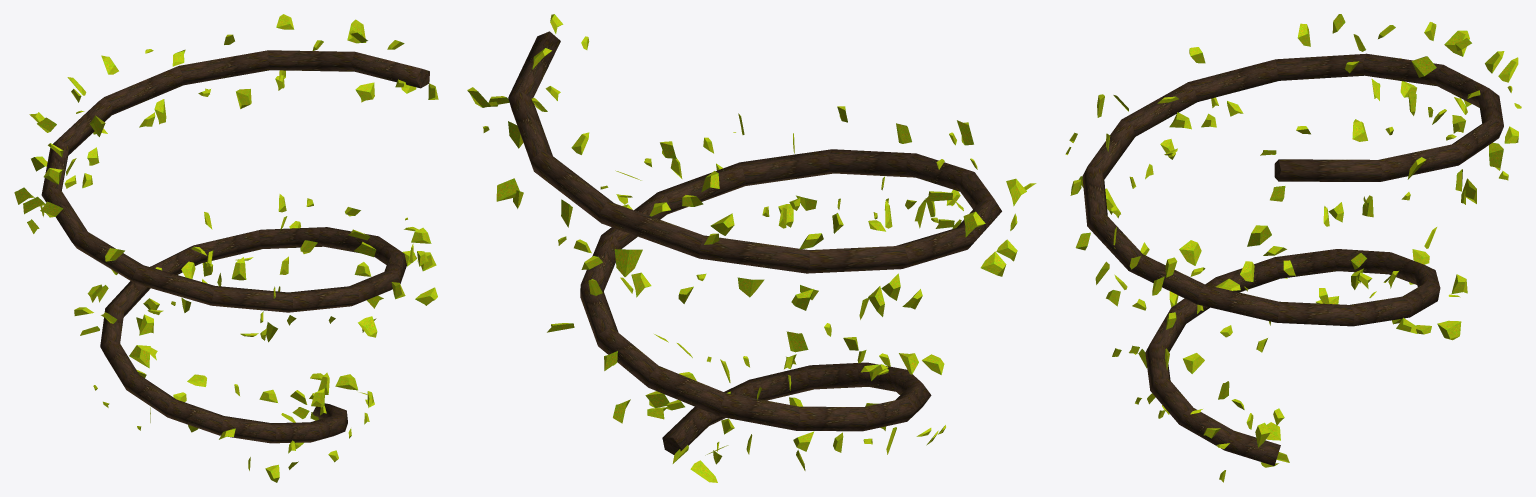
Rendered from plant tornado.glb.
3 renders of one model, left to right at view 1: azimuth 30°, elevation 25°; view 2: azimuth 150°, elevation 25°; view 3: azimuth 270°, elevation 25°, orthographic. The views are drawn at different scales.
Visible parts, largest first — view 1: Plantnado; view 2: Plantnado; view 3: Plantnado.
Part boxes in pixels (<box>): Plantnado: <box>14,14,438,482</box>; Plantnado: <box>467,14,1036,482</box>; Plantnado: <box>1065,14,1521,482</box>.
Bounding box in the file's own units: 4.27 × 3.86 × 3.89.
Materials: 2 (2 with a texture image).
